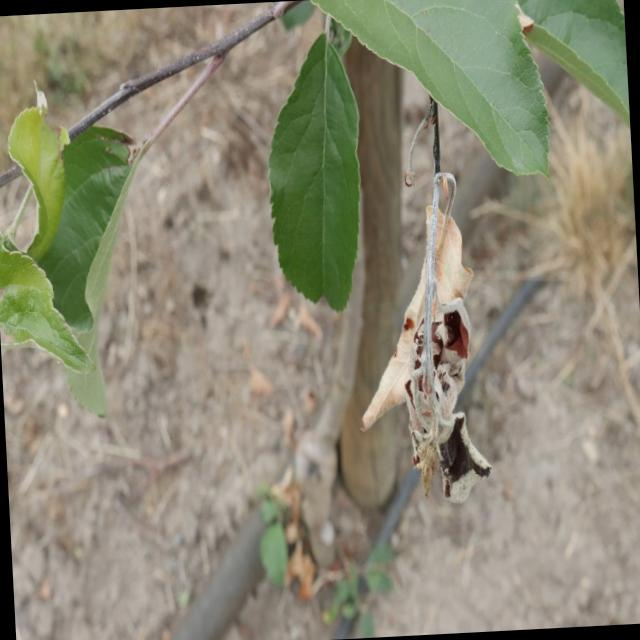-FireBlight-: (363, 164, 504, 524)
